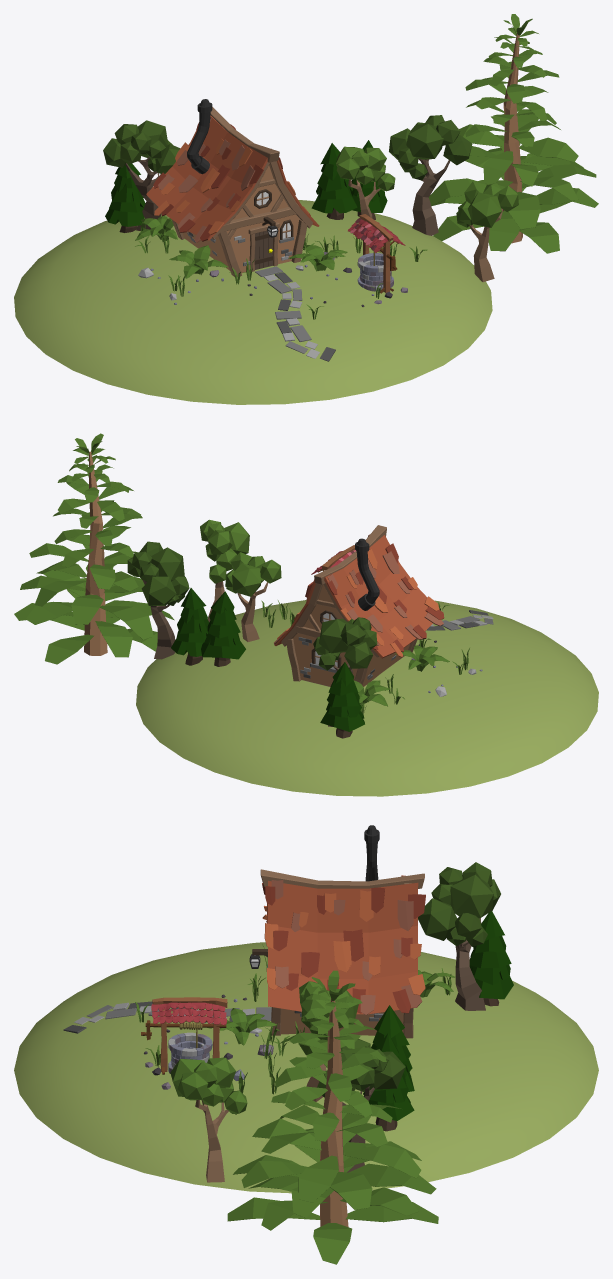
The model's file is HouseSmall1.fbx.
3 views of the same model, one above another, from view 1: azimuth 30°, elevation 25°; view 2: azimuth 150°, elevation 25°; view 3: azimuth 270°, elevation 25° (orthographic). The views are drawn at different scales.
Parts seen in each view (by area): view 1: Sphere, Plane.002, Cylinder.025, Cylinder.023, Leaves.001, Plane, Leaves, Cylinder.021, Cylinder.016, Trunk.005, Cylinder.022, Icosphere.017 (+20 smaller); view 2: Sphere, Plane.002, Cylinder.023, Cylinder.016, Leaves.001, Leaves, Plane.001, Cylinder.021, Cylinder.022, Cylinder.024, Cylinder.025, Cylinder.029 (+18 smaller); view 3: Sphere, Cube.025, Cylinder.024, Leaves.001, Cylinder.022, Cylinder.016, Cylinder.023, Cylinder.021, Cylinder.025, Cylinder.028, Cylinder.027, Cube.024 (+20 smaller).
Part boxes in pixels (x1,y1,x2,y2): Sphere: (14, 200, 492, 404); Plane.002: (146, 115, 267, 240); Cylinder.025: (459, 109, 578, 184); Cylinder.023: (428, 147, 596, 229); Leaves.001: (456, 181, 518, 227); Plane: (226, 165, 299, 273); Leaves: (336, 146, 395, 191); Cylinder.021: (431, 156, 598, 251); Cylinder.016: (502, 33, 522, 243); Trunk.005: (412, 158, 450, 235); Cylinder.022: (461, 153, 578, 201); Icosphere.017: (406, 123, 443, 159); Sphere: (136, 600, 598, 796); Plane.002: (324, 535, 432, 658); Cylinder.023: (26, 569, 153, 639); Cylinder.016: (84, 451, 107, 655); Leaves.001: (200, 519, 249, 583); Leaves: (225, 552, 281, 596); Plane.001: (293, 584, 357, 686); Cylinder.021: (14, 578, 174, 657); Cylinder.022: (20, 565, 144, 624); Cylinder.024: (34, 551, 138, 606); Cylinder.025: (29, 534, 132, 589); Cylinder.029: (58, 478, 133, 521); Sphere: (14, 942, 598, 1193); Cube.025: (268, 880, 418, 1014); Cylinder.024: (252, 1104, 421, 1202); Leaves.001: (170, 1057, 247, 1113); Cylinder.022: (241, 1128, 421, 1209); Cylinder.016: (320, 998, 348, 1227); Cylinder.023: (233, 1142, 436, 1217); Cylinder.021: (248, 1163, 418, 1230); Cylinder.025: (261, 1104, 401, 1153); Cylinder.028: (274, 1039, 385, 1101); Cylinder.027: (285, 1057, 373, 1117); Cube.024: (260, 869, 424, 888).
Bounding box in the file's own units: 3472 × 1311 × 2609.
